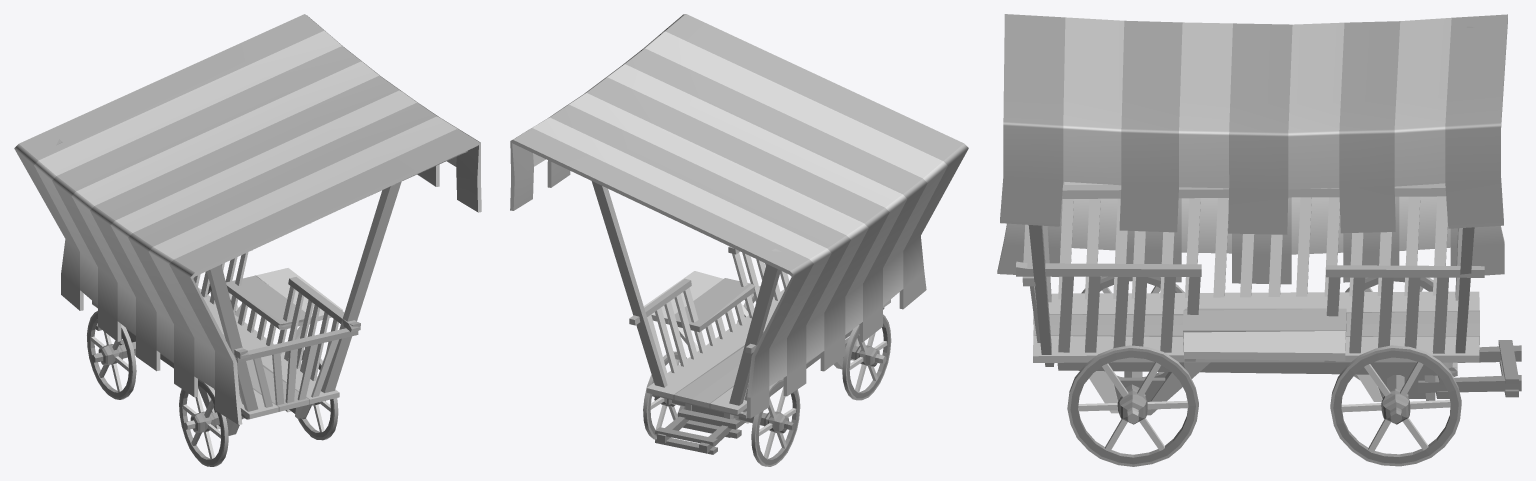
Rendered from PT_Vendor_Cart_01.fbx.
3 views of the same model, side by side, from view 1: azimuth 30°, elevation 25°; view 2: azimuth 150°, elevation 25°; view 3: azimuth 270°, elevation 25° (orthographic). The views are drawn at different scales.
Visible parts, largest first — view 1: PT_Vendor_Cart_Box_01, PT_Vendor_Cart_01_Rear_Wheels, PT_Vendor_Cart_01_Front_Wheels; view 2: PT_Vendor_Cart_Box_01, PT_Vendor_Cart_01_Front_Wheels, PT_Vendor_Cart_01_Front_Wheels_Frame, PT_Vendor_Cart_01_Rear_Wheels; view 3: PT_Vendor_Cart_Box_01, PT_Vendor_Cart_01_Rear_Wheels, PT_Vendor_Cart_01_Front_Wheels, PT_Vendor_Cart_01_Front_Wheels_Frame.
Part boxes in pixels (box(x1,y1,x2,y2)): PT_Vendor_Cart_Box_01: box(14, 14, 481, 435); PT_Vendor_Cart_01_Rear_Wheels: box(179, 350, 338, 466); PT_Vendor_Cart_01_Front_Wheels: box(87, 284, 238, 399); PT_Vendor_Cart_Box_01: box(510, 14, 968, 418); PT_Vendor_Cart_01_Front_Wheels: box(643, 351, 800, 466); PT_Vendor_Cart_01_Front_Wheels_Frame: box(655, 403, 748, 454); PT_Vendor_Cart_01_Rear_Wheels: box(737, 286, 891, 400); PT_Vendor_Cart_Box_01: box(997, 14, 1507, 415); PT_Vendor_Cart_01_Rear_Wheels: box(1067, 276, 1198, 466); PT_Vendor_Cart_01_Front_Wheels: box(1330, 277, 1461, 466); PT_Vendor_Cart_01_Front_Wheels_Frame: box(1356, 340, 1521, 401).
Bounding box in the file's own units: 341 × 335 × 374.
1 material, 1 textured.
